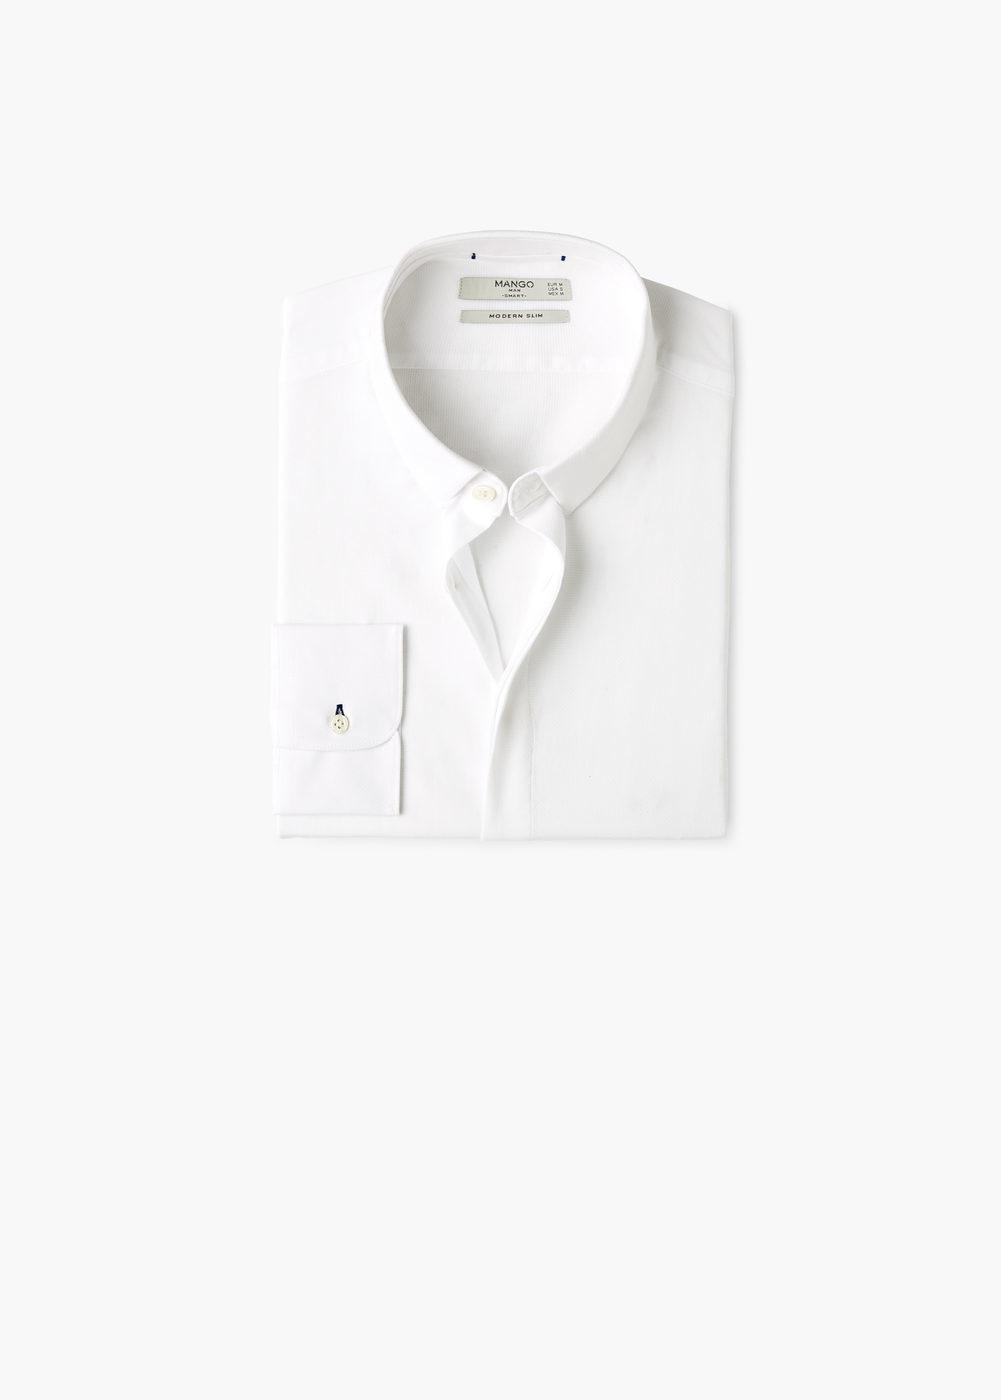teeshirt: (253, 221, 742, 859)
